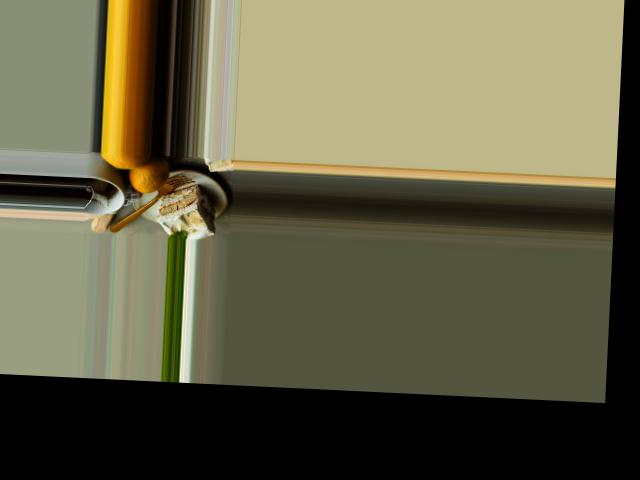lemon: (98, 151, 152, 171)
